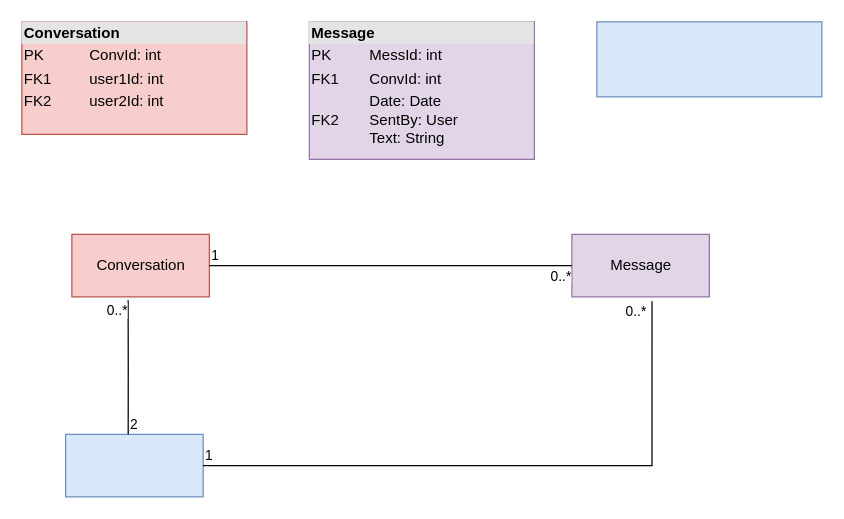
Some shapes in this 844 by 519 pixel diagram are drawn without their labels. The box of each missing label's shape, as (x1, y1, x2, y2) in pixels:
User: (64, 433, 203, 497)
User PK userId: int login: String: (596, 21, 822, 97)
